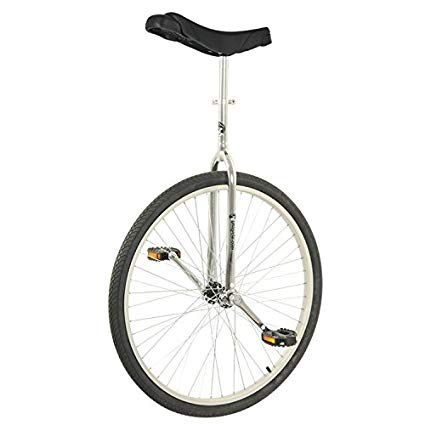seat: (135, 3, 275, 66)
wheel: (98, 165, 333, 425)
